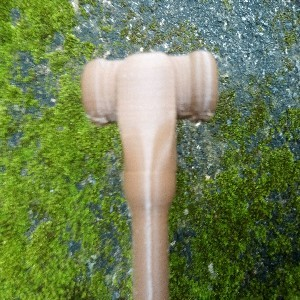palu: (80, 48, 220, 300)
